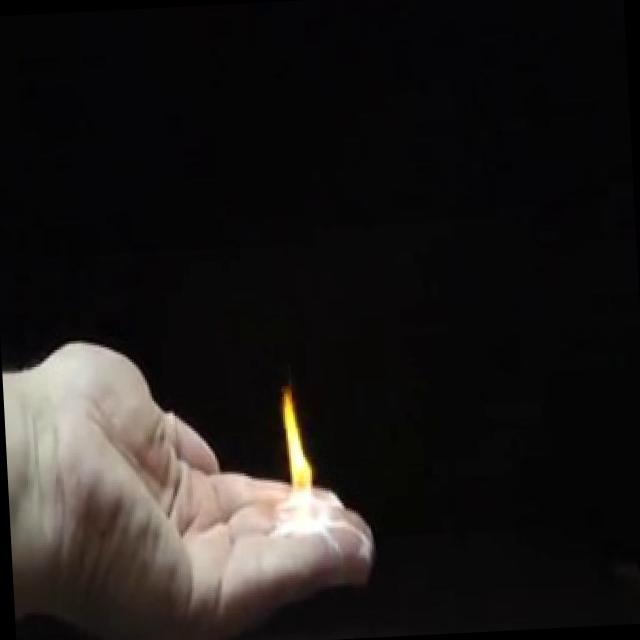Fire: (274, 378, 320, 538)
